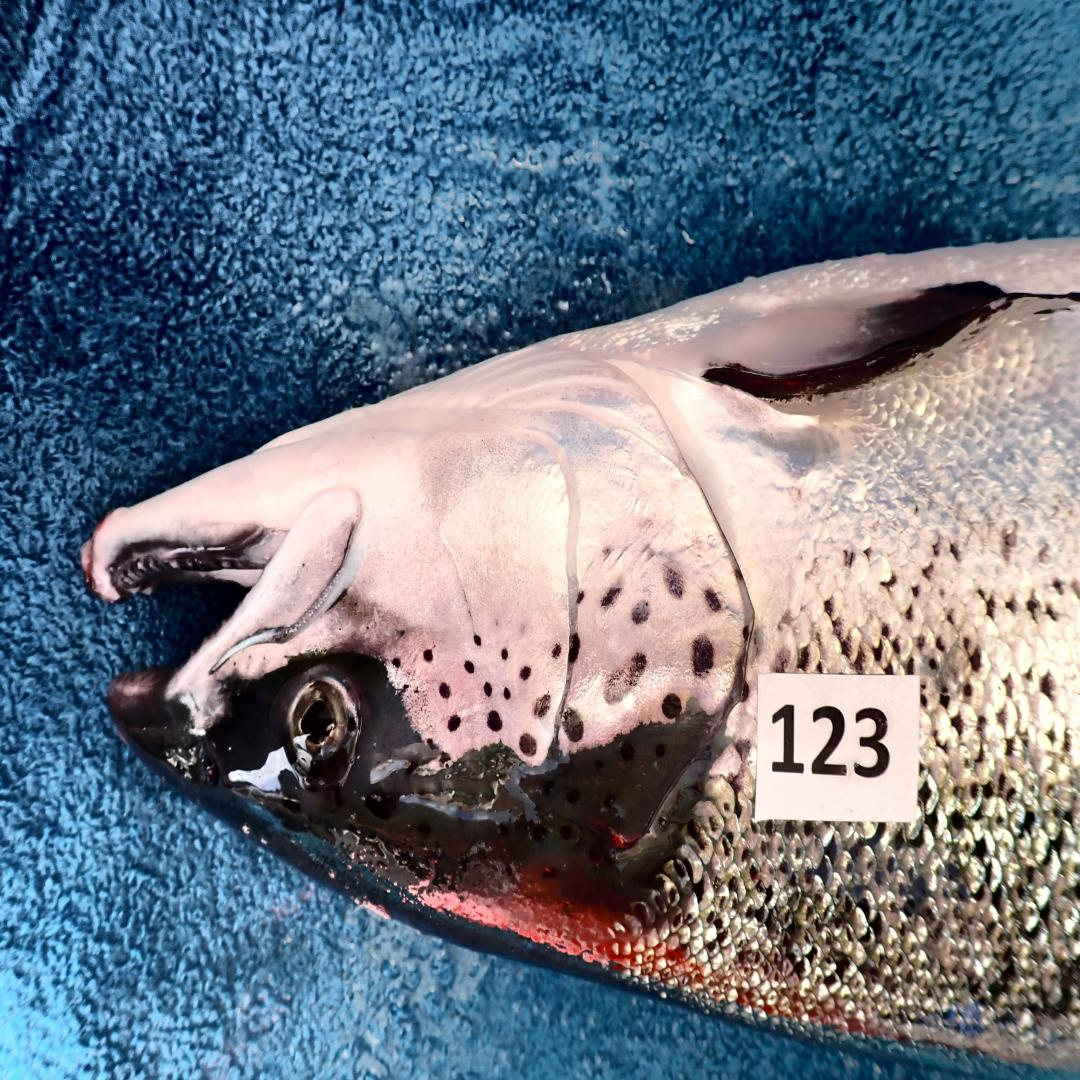spot: (603, 652, 648, 703), (692, 636, 715, 678), (563, 709, 584, 742), (664, 568, 683, 599), (601, 585, 622, 610), (662, 695, 681, 720), (631, 602, 650, 624), (567, 633, 580, 664), (705, 588, 721, 613), (519, 734, 536, 757), (534, 695, 551, 717), (638, 517, 655, 535), (487, 712, 502, 731), (447, 714, 460, 731), (439, 683, 451, 700), (521, 667, 532, 681), (735, 567, 744, 583), (428, 738, 439, 750), (473, 634, 482, 648), (602, 547, 611, 561), (464, 661, 475, 672), (483, 683, 491, 698), (440, 752, 450, 764), (576, 591, 585, 604), (553, 644, 561, 658), (743, 626, 750, 642), (424, 650, 432, 661), (393, 658, 401, 669), (399, 629, 406, 639), (504, 689, 510, 700), (502, 650, 508, 661), (403, 684, 410, 691)
